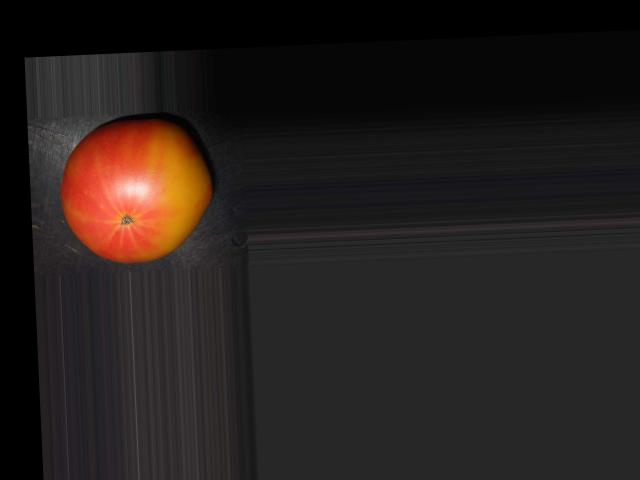tomato: (58, 115, 214, 265)
